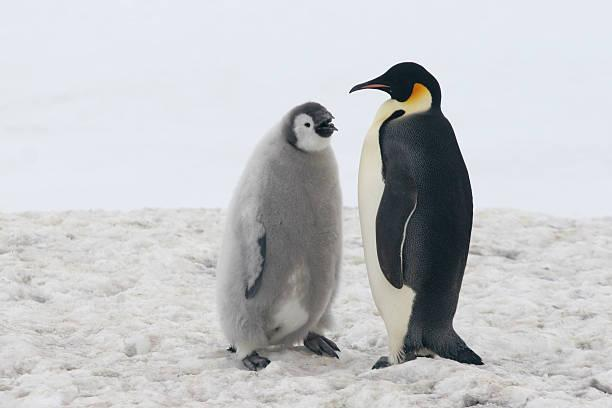emporer: (327, 50, 505, 373)
